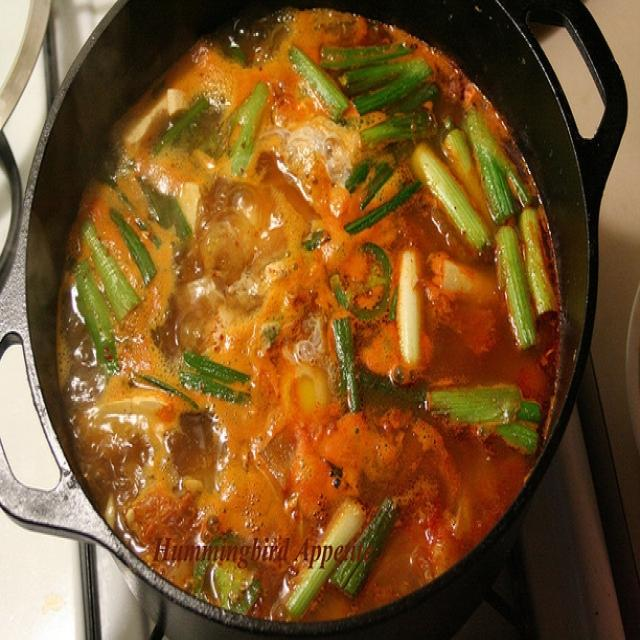汤锅炖物: (22, 2, 605, 618)
